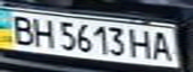1: (90, 24, 109, 55)
3: (106, 25, 130, 57)
5: (54, 19, 78, 52)
6: (72, 21, 93, 54)
A: (148, 29, 178, 62)
B: (3, 12, 39, 46)
H: (127, 27, 157, 61), (27, 16, 57, 48)
